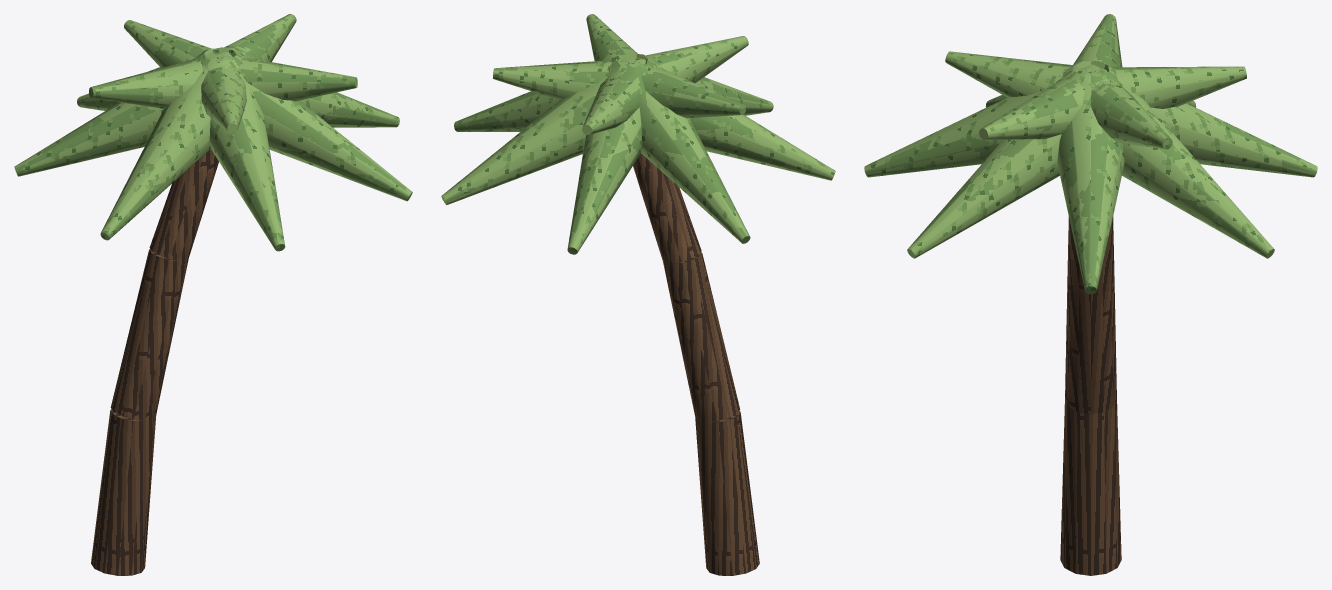
File: spec_palm_tree_3.glb
3 views of the same model, side by side, from view 1: azimuth 30°, elevation 25°; view 2: azimuth 150°, elevation 25°; view 3: azimuth 270°, elevation 25° (orthographic). The views are drawn at different scales.
Parts seen in each view (by area): view 1: spec_palm_tree_3; view 2: spec_palm_tree_3; view 3: spec_palm_tree_3.
Part boxes in pixels (box(x1,y1,x2,y2)): spec_palm_tree_3: box(14, 14, 412, 575); spec_palm_tree_3: box(441, 14, 835, 575); spec_palm_tree_3: box(864, 14, 1317, 575).
Bounding box in the file's own units: 2.89 × 3.97 × 2.96.
2 materials, 2 textured.
